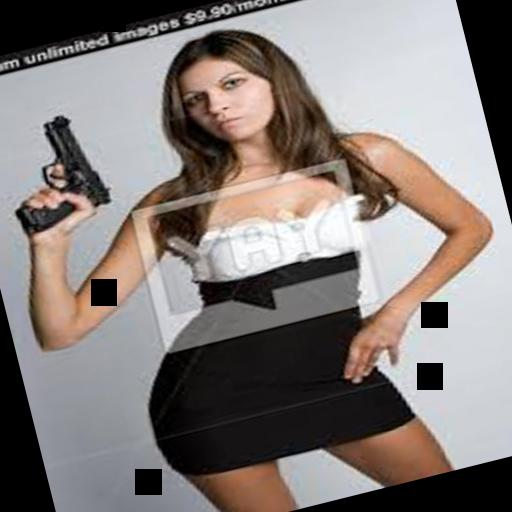Handgun: (0, 105, 115, 237)
